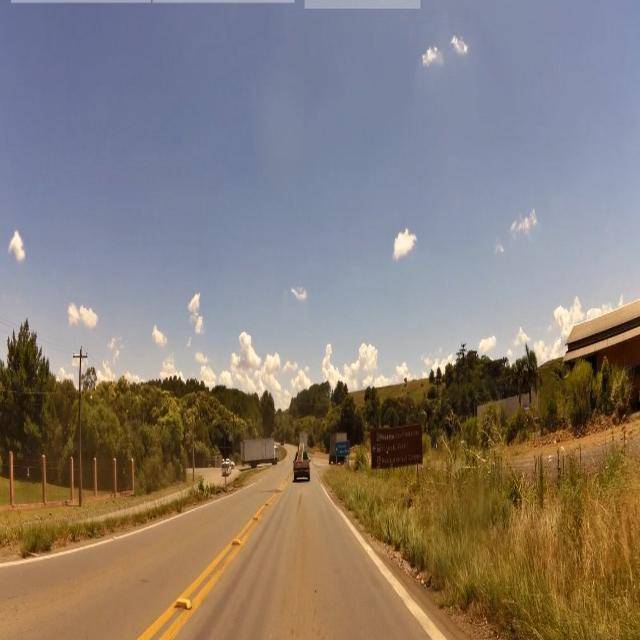TUR-4: (372, 426, 422, 467)
